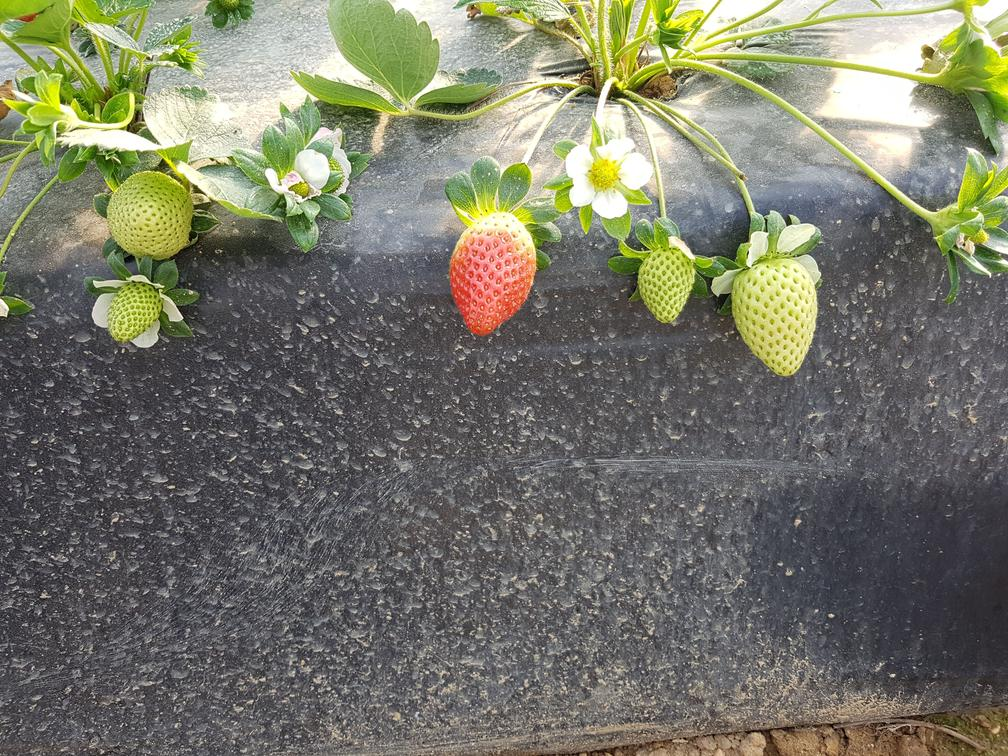Ripe: (449, 212, 544, 336)
Unripe: (733, 260, 823, 384), (103, 169, 195, 258), (640, 250, 698, 325), (109, 280, 170, 345)
